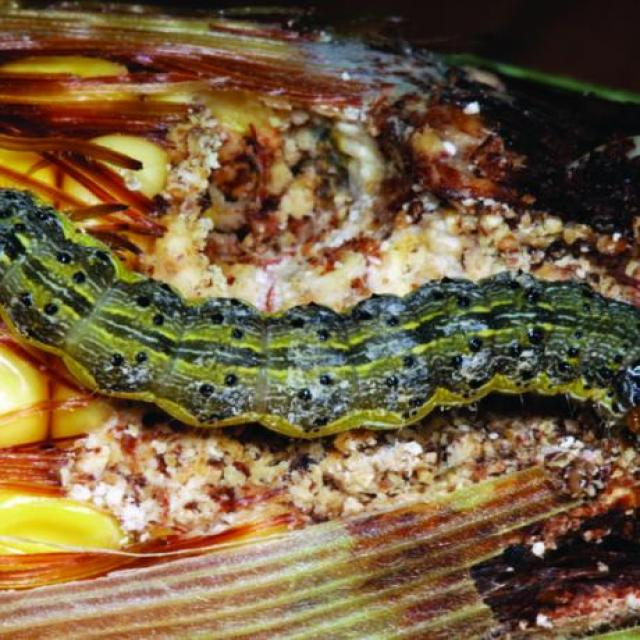Corn-earworm: (1, 180, 640, 496)
